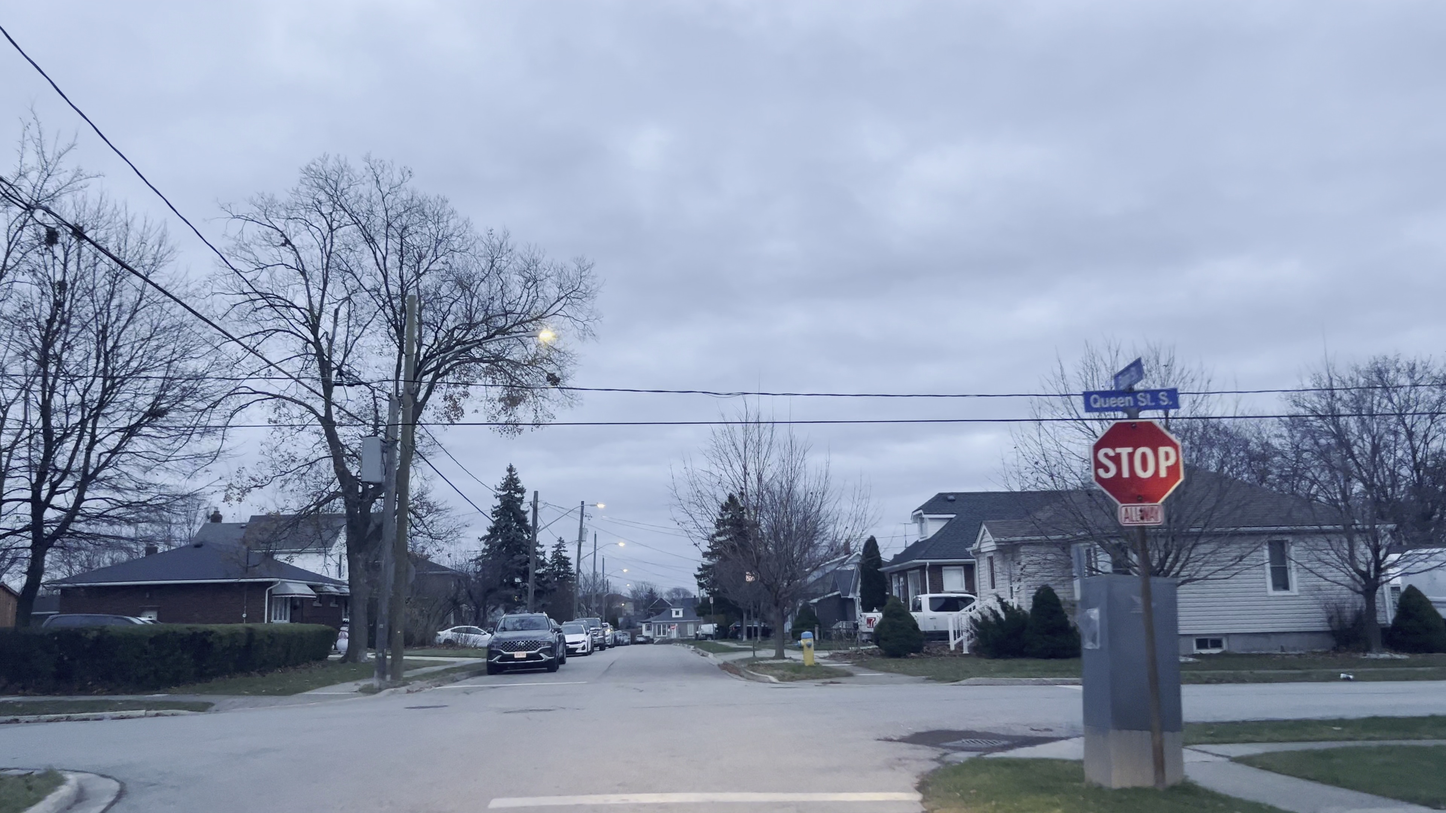cracks: (881, 718, 995, 757)
